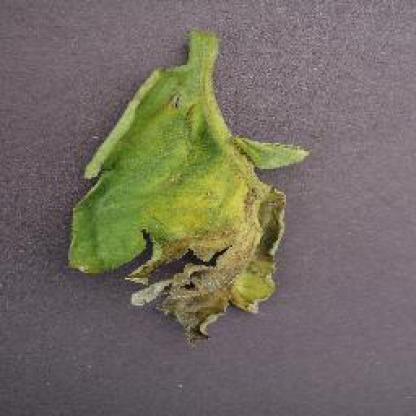bad leaf: (84, 52, 284, 312)
